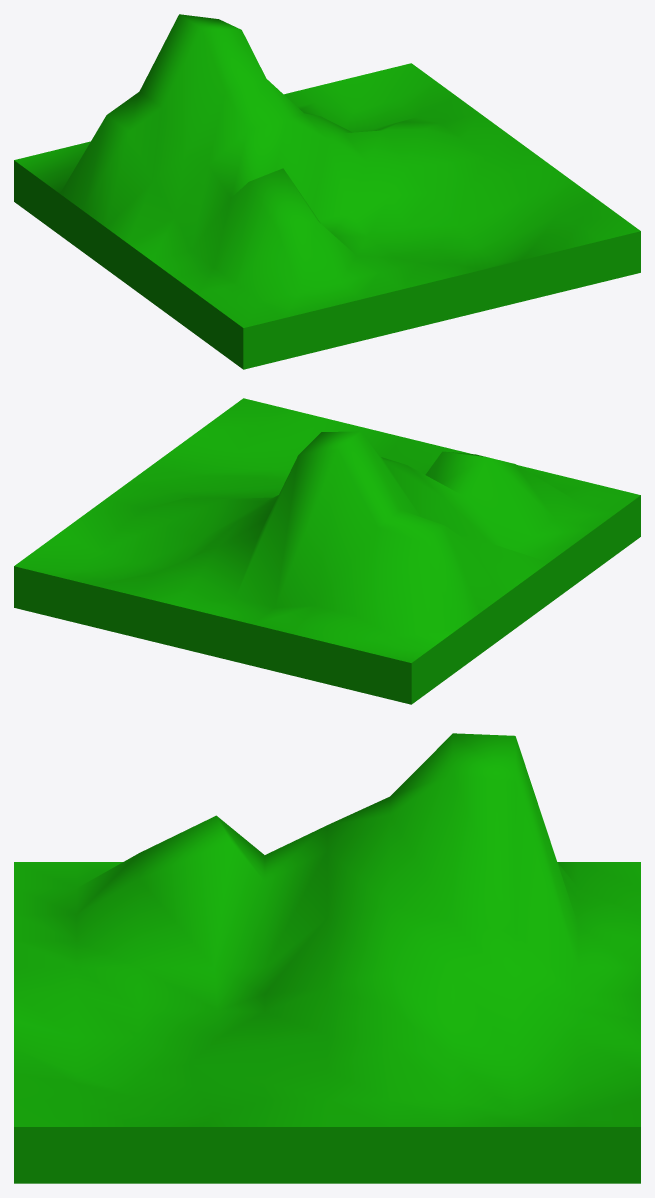
Rendered from island_terrain_01.fbx.
3 renders of one model, top to bottom at view 1: azimuth 30°, elevation 25°; view 2: azimuth 150°, elevation 25°; view 3: azimuth 270°, elevation 25°, orthographic. The views are drawn at different scales.
Parts seen in each view (by area): view 1: Box001; view 2: Box001; view 3: Box001.
Boxes of the visible parts, <box> form: Box001: <box>14,14,640,369</box>; Box001: <box>14,398,640,704</box>; Box001: <box>14,733,640,1183</box>.
Size of the model in its own units: 400 by 186 by 400.
